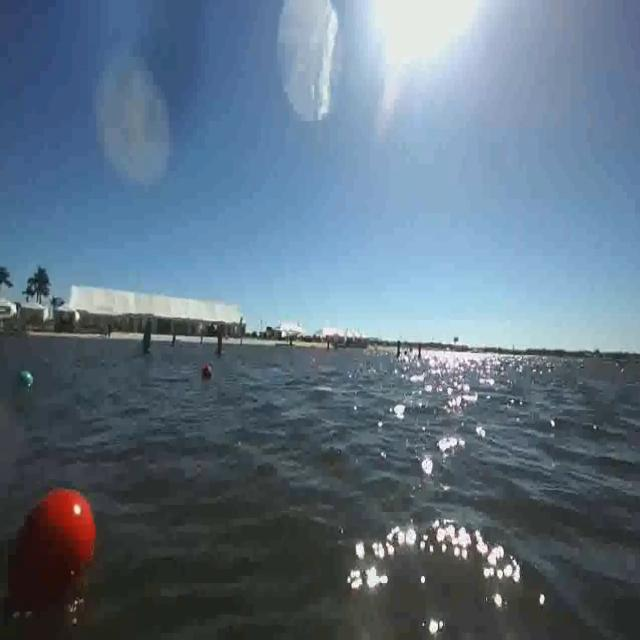black-buoy: (202, 362, 212, 378)
green-buoy: (18, 370, 32, 383)
green-column-buoy: (141, 320, 155, 358)
red-buoy: (2, 480, 104, 596)
